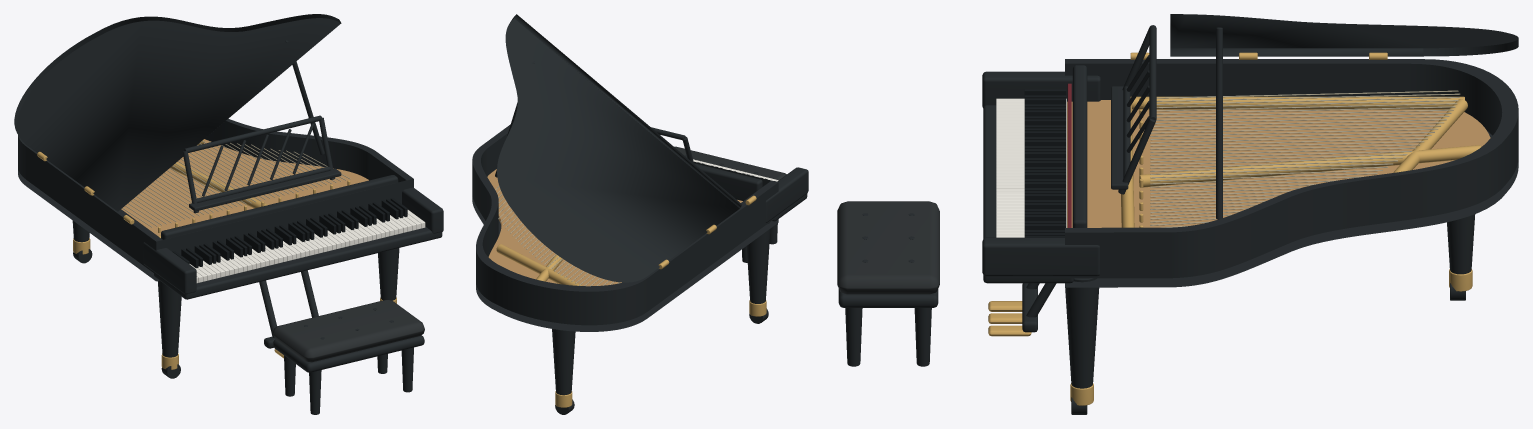
The model's file is grand-piano.glb.
3 renders of one model, left to right at view 1: azimuth 30°, elevation 25°; view 2: azimuth 150°, elevation 25°; view 3: azimuth 270°, elevation 25°, orthographic. The views are drawn at different scales.
Visible parts, largest first — view 1: Piano_static_Ebony_lacquer, Lid_open, Piano_static_Spruce_soundboard, Piano_static_Bench_leather, Piano_static_Strings, Piano_static_Brushed_brass; view 2: Lid_open, Piano_static_Ebony_lacquer, Piano_static_Spruce_soundboard, Piano_static_Brushed_brass, Piano_static_Bench_leather, Piano_static_Strings; view 3: Piano_static_Ebony_lacquer, Piano_static_Spruce_soundboard, Piano_static_Strings, Lid_open, Piano_static_Brushed_brass, Piano_static_Bench_leather, Piano_static_Dark_red_felt.
Boxes of the visible parts, x1,y1,x2,y2 form: Piano_static_Ebony_lacquer: (18, 40, 443, 414); Lid_open: (14, 14, 341, 211); Piano_static_Spruce_soundboard: (121, 139, 368, 235); Piano_static_Bench_leather: (273, 300, 424, 362); Piano_static_Strings: (122, 140, 350, 227); Piano_static_Brushed_brass: (37, 139, 396, 369); Lid_open: (497, 14, 742, 282); Piano_static_Ebony_lacquer: (472, 61, 808, 414); Piano_static_Spruce_soundboard: (487, 169, 742, 286); Piano_static_Brushed_brass: (496, 195, 766, 407); Piano_static_Bench_leather: (674, 146, 786, 180); Piano_static_Strings: (495, 186, 619, 286); Piano_static_Ebony_lacquer: (838, 25, 1518, 414); Piano_static_Spruce_soundboard: (1067, 100, 1490, 227); Piano_static_Strings: (1150, 90, 1460, 227); Lid_open: (1170, 14, 1518, 56); Piano_static_Brushed_brass: (1070, 52, 1480, 405); Piano_static_Bench_leather: (837, 201, 939, 294); Piano_static_Dark_red_felt: (1067, 83, 1071, 227).
Bounding box in the file's own units: 2.88 × 2.96 × 4.72.
